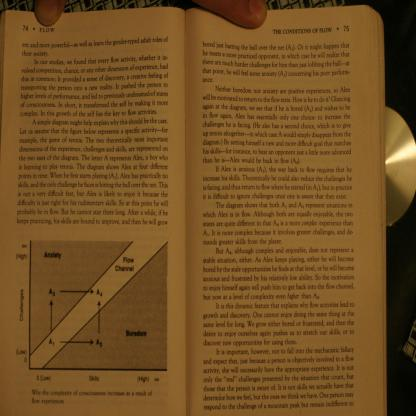book: (25, 0, 388, 392)
